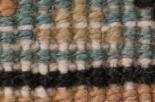Knot: (137, 37, 150, 45), (137, 58, 150, 66), (87, 78, 99, 86), (1, 63, 12, 71), (111, 68, 122, 76), (12, 78, 22, 86), (82, 61, 92, 69), (29, 78, 39, 86), (121, 73, 130, 81), (88, 68, 97, 76), (47, 71, 56, 79), (143, 76, 152, 83), (30, 64, 37, 73), (14, 96, 26, 101), (48, 64, 56, 71), (68, 63, 75, 71), (37, 43, 48, 48), (12, 89, 19, 96), (49, 43, 56, 50), (11, 63, 19, 69), (148, 20, 154, 27), (12, 56, 18, 61), (149, 38, 154, 43)
